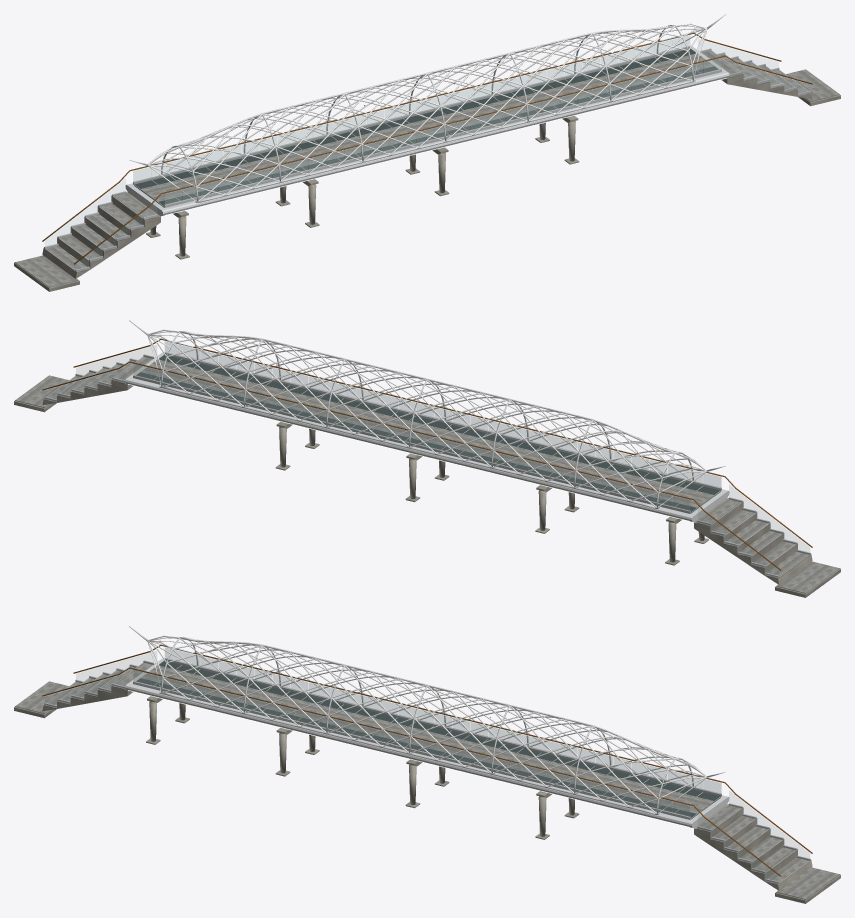
The model's file is LM_ENV_Saloma.glb.
3 renders of one model, top to bottom at view 1: azimuth 30°, elevation 25°; view 2: azimuth 150°, elevation 25°; view 3: azimuth 330°, elevation 25°, orthographic.
Parts seen in each view (by area): view 1: saloma | Saloma balustrade glass, saloma | Saloma walkway, saloma | Saloma diagrid, saloma | Saloma steel, saloma | Saloma stainless, saloma | Saloma glass deck, saloma | Saloma concrete, saloma | Saloma timber handrail, saloma | Saloma deck glow; view 2: saloma | Saloma balustrade glass, saloma | Saloma diagrid, saloma | Saloma walkway, saloma | Saloma steel, saloma | Saloma stainless, saloma | Saloma glass deck, saloma | Saloma concrete, saloma | Saloma timber handrail, saloma | Saloma deck glow; view 3: saloma | Saloma balustrade glass, saloma | Saloma walkway, saloma | Saloma diagrid, saloma | Saloma steel, saloma | Saloma stainless, saloma | Saloma glass deck, saloma | Saloma concrete, saloma | Saloma timber handrail, saloma | Saloma deck glow.
Part boxes in pixels (left/top/right/bottom): saloma | Saloma balustrade glass: left=45, top=35, right=809, bottom=269; saloma | Saloma walkway: left=15, top=50, right=839, bottom=287; saloma | Saloma diagrid: left=148, top=23, right=707, bottom=201; saloma | Saloma steel: left=125, top=14, right=729, bottom=216; saloma | Saloma stainless: left=44, top=46, right=811, bottom=272; saloma | Saloma glass deck: left=134, top=49, right=718, bottom=207; saloma | Saloma concrete: left=14, top=74, right=840, bottom=291; saloma | Saloma timber handrail: left=42, top=33, right=812, bottom=264; saloma | Saloma deck glow: left=43, top=34, right=811, bottom=241; saloma | Saloma balustrade glass: left=45, top=341, right=809, bottom=575; saloma | Saloma diagrid: left=147, top=329, right=706, bottom=507; saloma | Saloma walkway: left=15, top=356, right=839, bottom=593; saloma | Saloma steel: left=125, top=320, right=729, bottom=522; saloma | Saloma stainless: left=43, top=352, right=810, bottom=578; saloma | Saloma glass deck: left=136, top=355, right=720, bottom=513; saloma | Saloma concrete: left=14, top=380, right=840, bottom=597; saloma | Saloma timber handrail: left=42, top=339, right=812, bottom=570; saloma | Saloma deck glow: left=46, top=340, right=811, bottom=547; saloma | Saloma balustrade glass: left=45, top=647, right=809, bottom=881; saloma | Saloma walkway: left=15, top=662, right=839, bottom=899; saloma | Saloma diagrid: left=147, top=635, right=706, bottom=813; saloma | Saloma steel: left=125, top=626, right=729, bottom=828; saloma | Saloma stainless: left=43, top=658, right=810, bottom=884; saloma | Saloma glass deck: left=136, top=661, right=720, bottom=819; saloma | Saloma concrete: left=14, top=686, right=840, bottom=903; saloma | Saloma timber handrail: left=42, top=645, right=812, bottom=876; saloma | Saloma deck glow: left=43, top=646, right=811, bottom=853.
Bounding box in the file's own units: 67.1 × 8.89 × 5.52.
9 materials, 5 textured.
